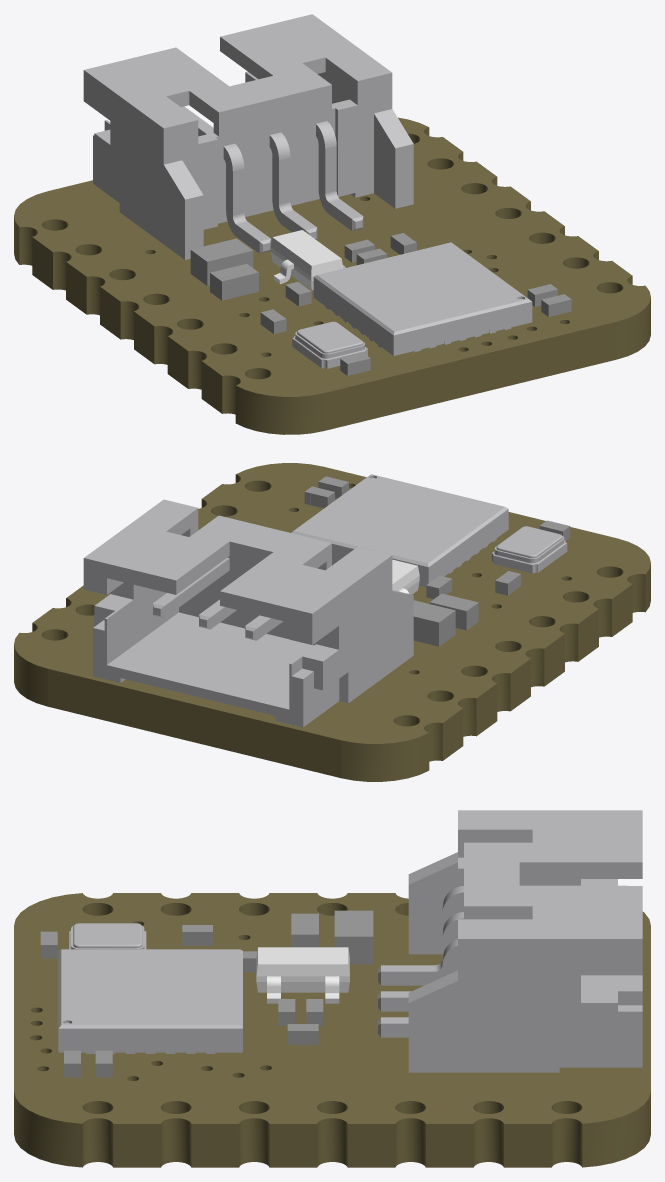
The model's file is ada-5877.glb.
The picture shows the model from 3 angles, top to bottom: view 1: azimuth 30°, elevation 25°; view 2: azimuth 150°, elevation 25°; view 3: azimuth 270°, elevation 25°; orthographic projection. The views are drawn at different scales.
Parts seen in each view (by area): view 1: 0.16666666666666666_0.16666666666666666_0.08333333333333333_, 0.5833333333333334_0.5833333333333334_0.5833333333333334_0.8, 0.3333333333333333_0.3333333333333333_0.3333333333333333_0, 0.9166666666666666_0.9166666666666666_0.9166666666666666_0.8; view 2: 0.5833333333333334_0.5833333333333334_0.5833333333333334_0.8, 0.16666666666666666_0.16666666666666666_0.08333333333333333_, 0.3333333333333333_0.3333333333333333_0.3333333333333333_0, 0.9166666666666666_0.9166666666666666_0.9166666666666666_0.8; view 3: 0.16666666666666666_0.16666666666666666_0.08333333333333333_, 0.5833333333333334_0.5833333333333334_0.5833333333333334_0.8, 0.3333333333333333_0.3333333333333333_0.3333333333333333_0, 0.9166666666666666_0.9166666666666666_0.9166666666666666_0.8.
Part boxes in pixels (bbox=[...]): 0.16666666666666666_0.16666666666666666_0.08333333333333333_: bbox=[14, 117, 650, 434]; 0.5833333333333334_0.5833333333333334_0.5833333333333334_0.8: bbox=[83, 14, 532, 368]; 0.3333333333333333_0.3333333333333333_0.3333333333333333_0: bbox=[190, 233, 571, 375]; 0.9166666666666666_0.9166666666666666_0.9166666666666666_0.8: bbox=[270, 230, 345, 290]; 0.5833333333333334_0.5833333333333334_0.5833333333333334_0.8: bbox=[83, 474, 567, 727]; 0.16666666666666666_0.16666666666666666_0.08333333333333333_: bbox=[14, 463, 650, 781]; 0.3333333333333333_0.3333333333333333_0.3333333333333333_0: bbox=[304, 476, 570, 646]; 0.9166666666666666_0.9166666666666666_0.9166666666666666_0.8: bbox=[392, 559, 419, 594]; 0.16666666666666666_0.16666666666666666_0.08333333333333333_: bbox=[14, 893, 650, 1167]; 0.5833333333333334_0.5833333333333334_0.5833333333333334_0.8: bbox=[58, 810, 642, 1072]; 0.3333333333333333_0.3333333333333333_0.3333333333333333_0: bbox=[40, 910, 373, 1077]; 0.9166666666666666_0.9166666666666666_0.9166666666666666_0.8: bbox=[256, 947, 349, 1003].
Bounding box in the file's own units: 1.78 × 0.637 × 2.07.
